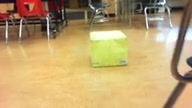cube: (90, 30, 129, 67)
